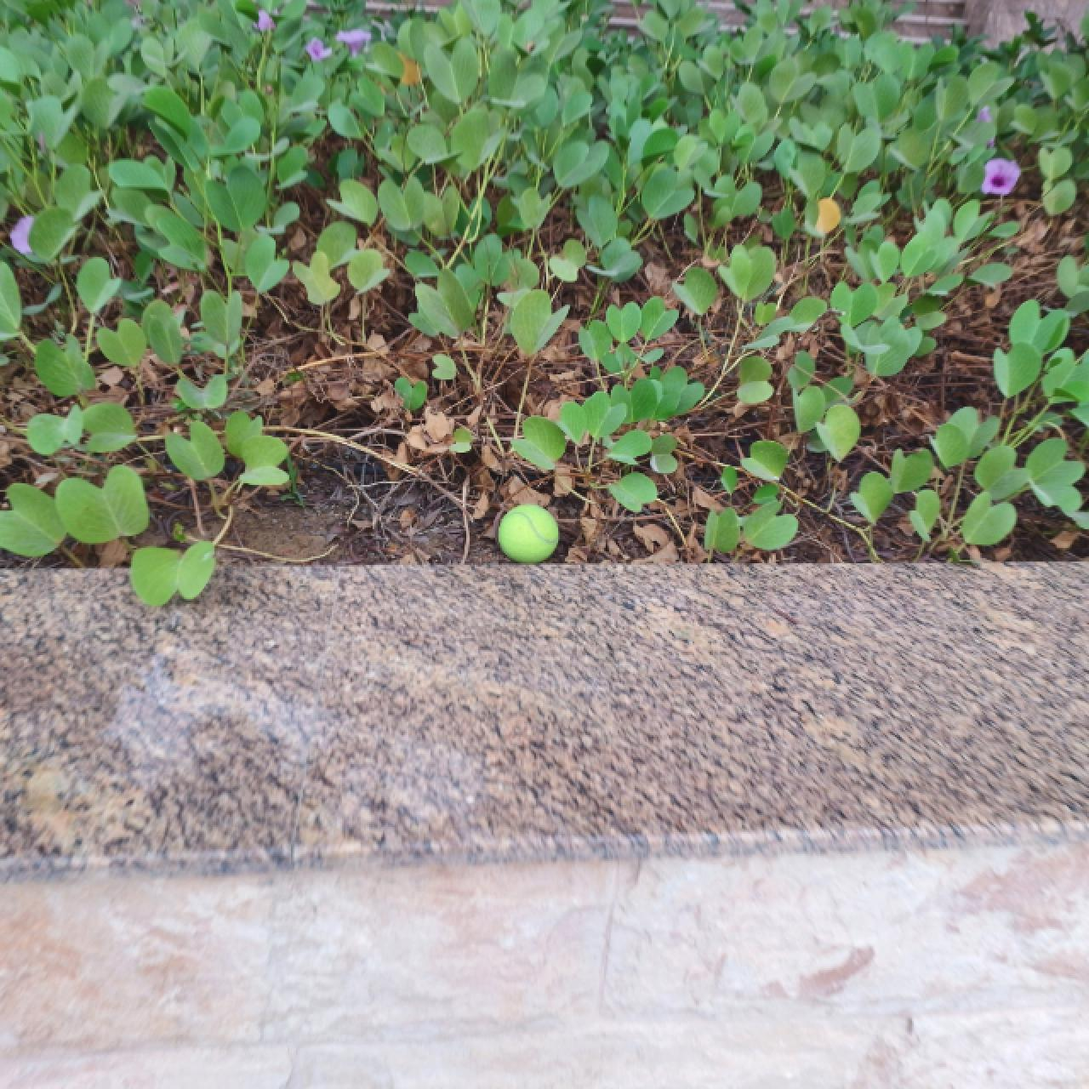tennis-ball: (497, 503, 562, 565)
